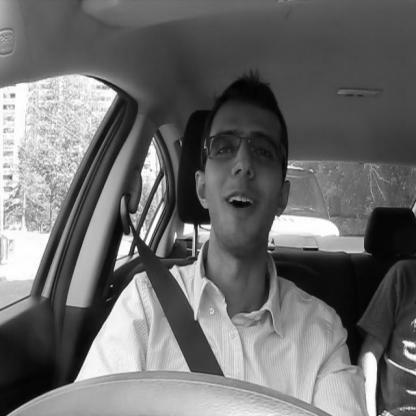seatbelt: (117, 60, 300, 387)
